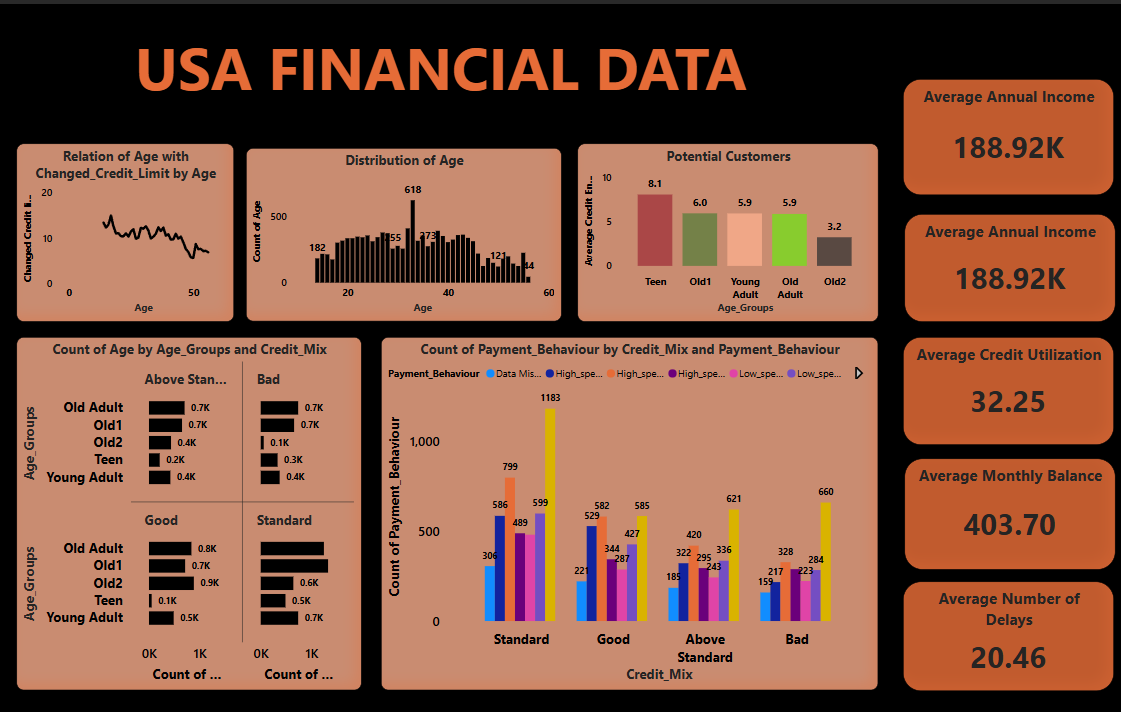

The page's visual inventory and layout, read from the dashboard file:
{"tool":"powerbi","page":{"name":"Page 1","canvas":[1380,900],"ordinal":0},"visuals":[{"type":"card","title":"Average Annual Income","fields":{"Values":["Avg(combined_df.Annual_Income)"]},"box":[1110,256,258,132],"z":0},{"type":"card","title":"Average Credit Utilization","fields":{"Values":["Avg(combined_df.Credit_Utilization_Ratio)"]},"box":[1108,408,258,132],"z":1000},{"type":"card","title":"Average Monthly Balance","fields":{"Values":["Avg(combined_df.Monthly_Balance)"]},"box":[1110,556,258,136],"z":2000},{"type":"card","title":"Average Number of Delays","fields":{"Values":["Avg(combined_df.Delay_from_due_date)"]},"box":[1108,706,258,134],"z":3000},{"type":"lineChart","title":"Relation of Age with Changed_Credit_Limit by Age","fields":{"Category":["combined_df.Age"],"Y":["Avg(combined_df.Changed_Credit_Limit)"]},"box":[24,170,266,218],"z":4000},{"type":"clusteredColumnChart","title":"Distribution of Age","fields":{"Category":["combined_df.Age"],"Y":["CountNonNull(combined_df.Age)"]},"box":[304,176,386,212],"z":5000},{"type":"clusteredBarChart","fields":{"Category":["combined_df.Age_Groups"],"Y":["CountNonNull(combined_df.Age)"],"Rows":["combined_df.Credit_Mix"]},"box":[24,408,422,432],"z":6000},{"type":"clusteredColumnChart","fields":{"Y":["CountNonNull(combined_df.Payment_Behaviour)"],"Category":["combined_df.Credit_Mix"],"Series":["combined_df.Payment_Behaviour"]},"box":[470,408,608,432],"z":7000},{"type":"clusteredColumnChart","title":"Potential Customers","fields":{"Category":["combined_df.Age_Groups"],"Y":["Table_for_Measures.Average Credit Enquires"]},"box":[710,170,368,218],"z":8000},{"type":"card","title":"Average Annual Income ","fields":{"Values":["Avg(combined_df.Annual_Income)"]},"box":[1108,92,258,142],"z":9000},{"type":"textbox","box":[24,22,1038,120],"z":9001}]}

Visuals, with their boxes in screenshot pixels (x1, y1, x2, y2), scaled from the page's 1380x900 canvas onto the 1121x712 screenshot:
"Average Annual Income" card: {"left": 902, "top": 203, "right": 1111, "bottom": 307}
"Average Credit Utilization" card: {"left": 900, "top": 323, "right": 1110, "bottom": 427}
"Average Monthly Balance" card: {"left": 902, "top": 440, "right": 1111, "bottom": 547}
"Average Number of Delays" card: {"left": 900, "top": 559, "right": 1110, "bottom": 665}
"Relation of Age with Changed_Credit_Limit by Age" lineChart: {"left": 19, "top": 134, "right": 236, "bottom": 307}
"Distribution of Age" clusteredColumnChart: {"left": 247, "top": 139, "right": 560, "bottom": 307}
clusteredBarChart - combined_df.Age_Groups x CountNonNull(combined_df.Age): {"left": 19, "top": 323, "right": 362, "bottom": 665}
clusteredColumnChart - CountNonNull(combined_df.Payment_Behaviour) x combined_df.Credit_Mix: {"left": 382, "top": 323, "right": 876, "bottom": 665}
"Potential Customers" clusteredColumnChart: {"left": 577, "top": 134, "right": 876, "bottom": 307}
"Average Annual Income " card: {"left": 900, "top": 73, "right": 1110, "bottom": 185}
textbox: {"left": 19, "top": 17, "right": 863, "bottom": 112}
